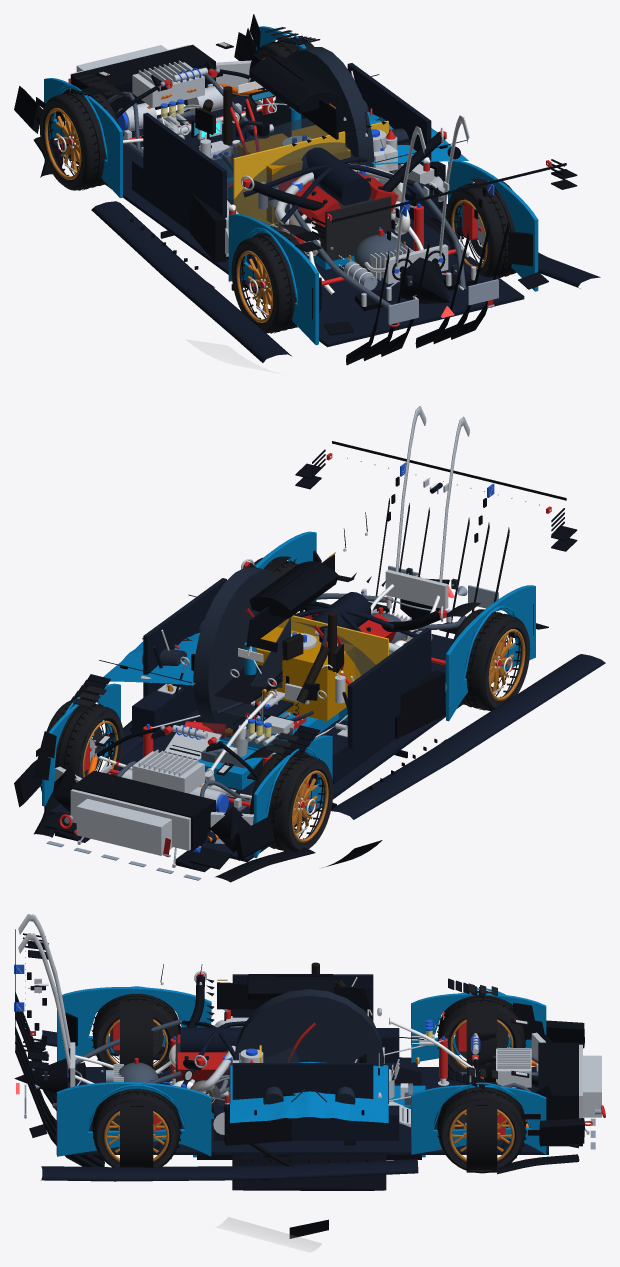
Rendered from full_modular_car_assembly.glb.
3 renders of one model, top to bottom at view 1: azimuth 30°, elevation 25°; view 2: azimuth 150°, elevation 25°; view 3: azimuth 270°, elevation 25°, orthographic. The views are drawn at different scales.
Parts seen in each view (by area): view 1: Underbody_Aerodynamics_Venturi_Assembly, Chassis_Sills_Doors_Extinguisher_Assembly, Powertrain_Bay_Detailed_Assembly, Tire_Seamless_Radial_Casing (×3), Block04_ProductionSculptedHood, Rear_Window_Assembly, Tire_Assembly_HighDetail (×3), Rear_Fender_LH, Fuel_Cell_Refueling_System_Assembly, Diffuser_Strakes_Rain_Light_Assembly, Inconel_Exhaust_Headers_Assembly, Hybrid_KERS_Inverter_Assembly (+34 smaller); view 2: Chassis_Sills_Doors_Extinguisher_Assembly, Underbody_Aerodynamics_Venturi_Assembly, Block04_ProductionSculptedHood, Tire_Seamless_Radial_Casing (×3), Fuel_Cell_Refueling_System_Assembly, Front_Chromoly_Subframe_Cradle, Rear_Fender_LH, Tire_Assembly_HighDetail (×3), Auxiliary_Coolers_Ducting_Assembly, Roof_Ram_Air_Snorkel_Assembly, Hybrid_KERS_Inverter_Assembly, Wheel_Rim_Assembly_HighDetail (×2) (+30 smaller); view 3: Block04_ProductionSculptedHood, Underbody_Aerodynamics_Venturi_Assembly, Chassis_Sills_Doors_Extinguisher_Assembly, Rear_Fender_RH, Tire_Seamless_Radial_Casing (×4), Front_Fender_RH, Rear_Fender_LH, Tire_Assembly_HighDetail (×4), Front_Fender_LH, FrontSplitter_Assembly, Powertrain_Bay_Detailed_Assembly, Auxiliary_Coolers_Ducting_Assembly (+23 smaller).
Boxes of the visible parts, x1,y1,x2,y2 form: Underbody_Aerodynamics_Venturi_Assembly: (50,95,600,362); Chassis_Sills_Doors_Extinguisher_Assembly: (132,63,438,262); Powertrain_Bay_Detailed_Assembly: (275,144,410,261); Tire_Seamless_Radial_Casing (×3): (42,88,516,333); Block04_ProductionSculptedHood: (275,47,468,173); Rear_Window_Assembly: (211,118,411,225); Tire_Assembly_HighDetail (×3): (39,90,514,333); Rear_Fender_LH: (228,214,324,345); Fuel_Cell_Refueling_System_Assembly: (237,125,446,223); Diffuser_Strakes_Rain_Light_Assembly: (346,219,509,365); Inconel_Exhaust_Headers_Assembly: (233,120,423,294); Hybrid_KERS_Inverter_Assembly: (116,60,223,131); Chassis_Sills_Doors_Extinguisher_Assembly: (132,578,431,783); Underbody_Aerodynamics_Venturi_Assembly: (50,630,605,862); Block04_ProductionSculptedHood: (99,567,279,729); Tire_Seamless_Radial_Casing (×3): (46,609,527,851); Fuel_Cell_Refueling_System_Assembly: (241,559,446,721); Front_Chromoly_Subframe_Cradle: (76,761,251,855); Rear_Fender_LH: (445,585,535,721); Tire_Assembly_HighDetail (×3): (53,609,530,851); Auxiliary_Coolers_Ducting_Assembly: (71,770,215,850); Roof_Ram_Air_Snorkel_Assembly: (249,561,338,618); Hybrid_KERS_Inverter_Assembly: (118,749,228,812); Wheel_Rim_Assembly_HighDetail (×2): (292,628,525,842); Block04_ProductionSculptedHood: (229,989,388,1123); Underbody_Aerodynamics_Venturi_Assembly: (41,1030,548,1181); Chassis_Sills_Doors_Extinguisher_Assembly: (214,974,410,1140); Rear_Fender_RH: (56,1082,211,1167); Tire_Seamless_Radial_Casing (×4): (93,991,525,1173); Front_Fender_RH: (411,1066,546,1172); Rear_Fender_LH: (57,986,211,1068); Tire_Assembly_HighDetail (×4): (91,992,526,1171); Front_Fender_LH: (411,983,546,1082); FrontSplitter_Assembly: (232,1155,386,1190); Powertrain_Bay_Detailed_Assembly: (169,1025,242,1106); Auxiliary_Coolers_Ducting_Assembly: (538,1042,578,1118).
Size of the model in its own units: 2.75 by 2.73 by 4.63.
